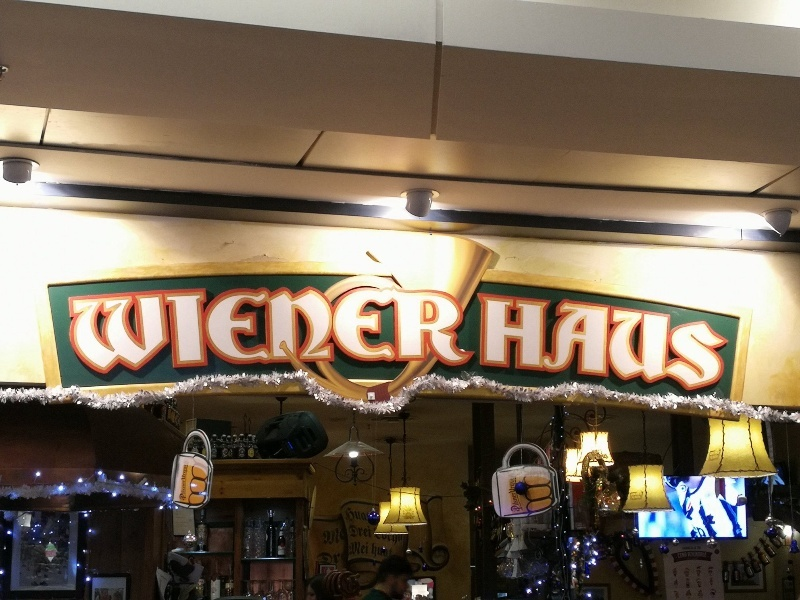text: (481, 288, 496, 396), (497, 288, 512, 396), (513, 288, 528, 396), (529, 288, 544, 396), (545, 288, 560, 396), (561, 288, 576, 396), (577, 288, 592, 396), (593, 288, 608, 396), (609, 288, 624, 396), (625, 288, 640, 396), (641, 288, 656, 396), (657, 288, 672, 396), (673, 288, 688, 396), (689, 288, 704, 396), (705, 288, 720, 396), (65, 290, 80, 381), (81, 290, 96, 381), (97, 290, 112, 381), (113, 290, 128, 381), (129, 290, 144, 381), (145, 290, 160, 381), (161, 290, 176, 381), (177, 290, 192, 381), (193, 290, 208, 381), (209, 290, 224, 381), (225, 290, 240, 381), (241, 290, 256, 381), (257, 290, 272, 381), (273, 290, 288, 381), (289, 290, 304, 381), (305, 290, 320, 381), (321, 290, 336, 381), (337, 290, 352, 381), (353, 290, 368, 381), (369, 290, 384, 381), (385, 290, 400, 381), (401, 290, 416, 381), (417, 290, 432, 381), (433, 290, 448, 381), (449, 290, 464, 381), (721, 288, 732, 396), (465, 290, 476, 381), (59, 290, 64, 381), (513, 471, 524, 512), (183, 460, 192, 501), (353, 507, 369, 522), (323, 528, 336, 546), (353, 541, 369, 555), (478, 288, 480, 396), (372, 542, 384, 560), (353, 524, 368, 538), (508, 471, 512, 512), (337, 528, 345, 546), (385, 542, 393, 560), (346, 507, 352, 522), (689, 553, 704, 559), (689, 546, 701, 551), (678, 553, 688, 559), (348, 524, 352, 538), (49, 551, 57, 557), (369, 524, 372, 538), (682, 546, 688, 551), (351, 541, 352, 555), (46, 551, 48, 557), (705, 553, 707, 559)
